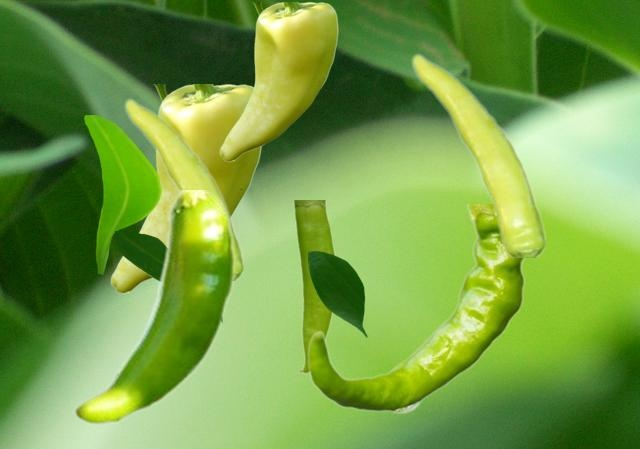green_chili: (307, 204, 527, 413), (72, 190, 235, 425), (110, 84, 262, 293), (411, 52, 544, 256), (124, 97, 242, 279), (219, 2, 337, 161), (292, 200, 336, 373)
